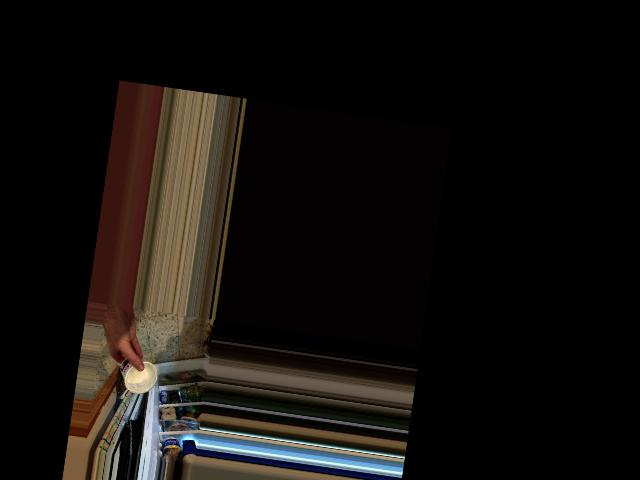cotage: (114, 354, 159, 398)
